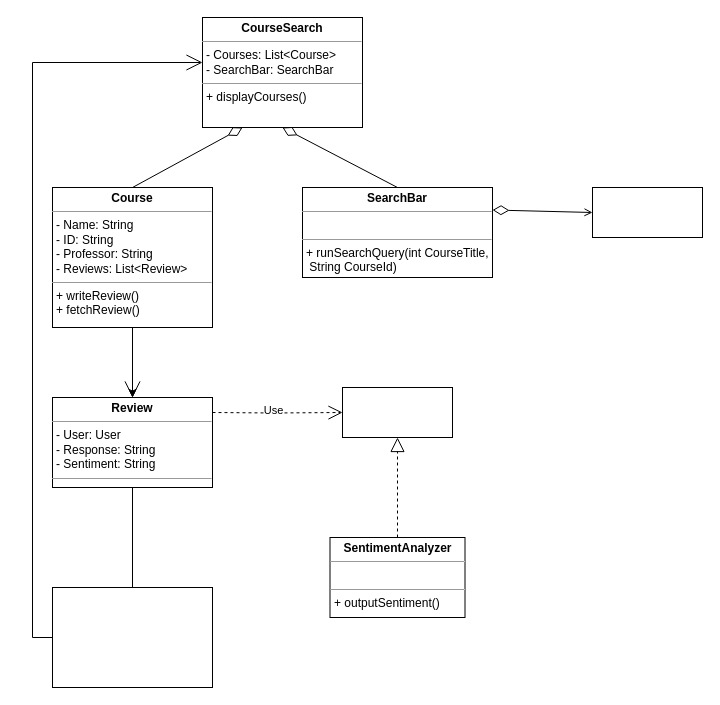
Some shapes in this 720 by 705 pixel diagram are drawn without their labels. Here are the shapes that lost their labels. From the top down, the centre of each, then its label:
point (647, 212): SearchButton
point (397, 412): «interface» ReviewAnalyzer
point (132, 637): User - Name: String - JHED: String + addReview()
